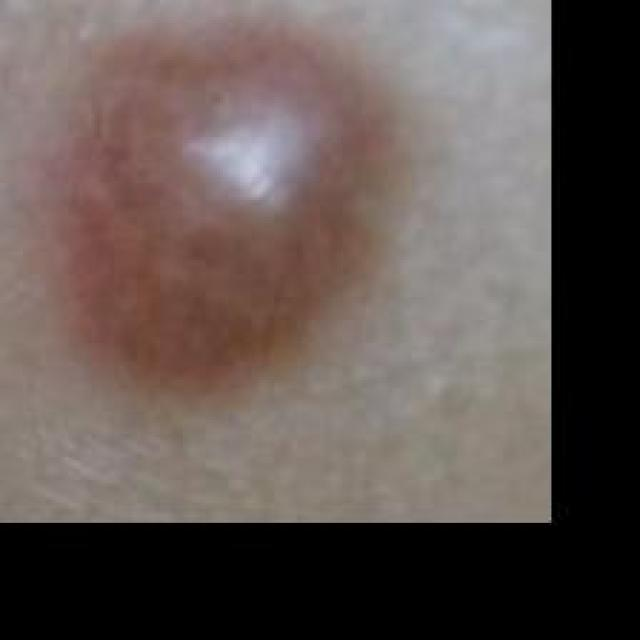monkeypox: (0, 0, 546, 520)
